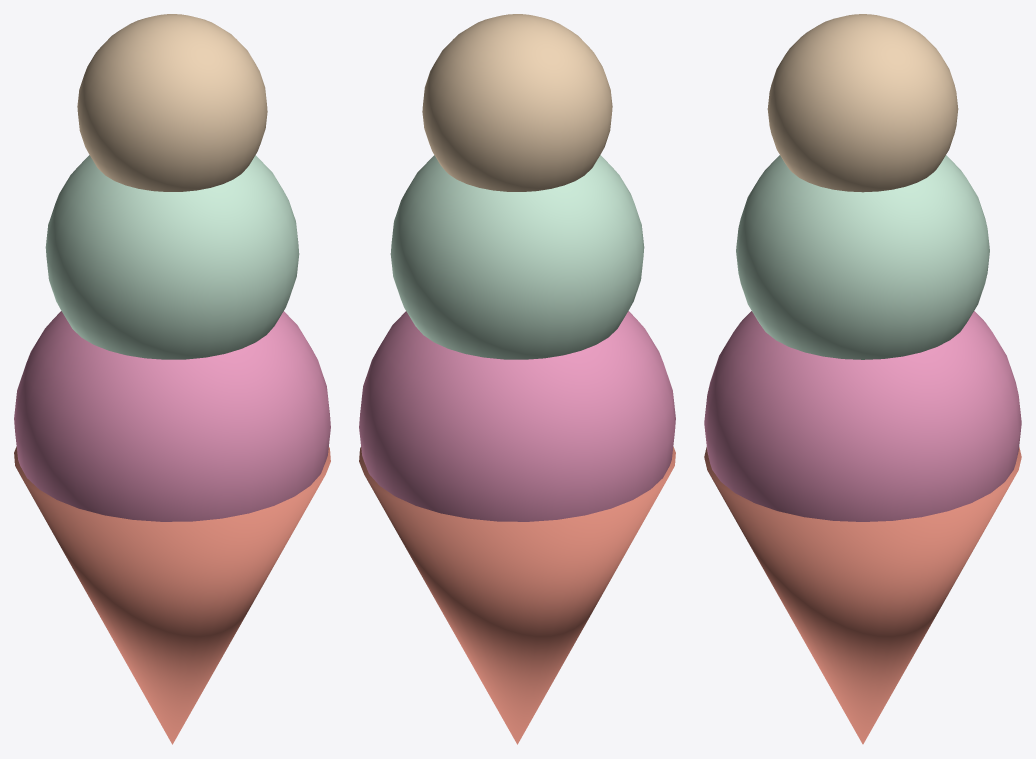
The model's file is ice_cream.fbx.
The picture shows the model from 3 angles, left to right: view 1: azimuth 30°, elevation 25°; view 2: azimuth 150°, elevation 25°; view 3: azimuth 270°, elevation 25°; orthographic projection.
Parts seen in each view (by area): view 1: Sphere, Sphere.001, Cone, Sphere.002; view 2: Sphere, Sphere.001, Cone, Sphere.002; view 3: Sphere, Sphere.001, Cone, Sphere.002.
Boxes of the visible parts, left/top/right/bottom form: Sphere: left=14, top=311, right=330, bottom=521; Sphere.001: left=45, top=155, right=299, bottom=359; Cone: left=14, top=446, right=330, bottom=744; Sphere.002: left=77, top=14, right=267, bottom=191; Sphere: left=359, top=311, right=675, bottom=521; Sphere.001: left=390, top=155, right=644, bottom=359; Cone: left=359, top=446, right=675, bottom=744; Sphere.002: left=422, top=14, right=612, bottom=191; Sphere: left=704, top=311, right=1021, bottom=521; Sphere.001: left=736, top=155, right=989, bottom=359; Cone: left=704, top=447, right=1021, bottom=744; Sphere.002: left=767, top=14, right=958, bottom=192.
Size of the model in its own units: 200 by 502 by 200.
